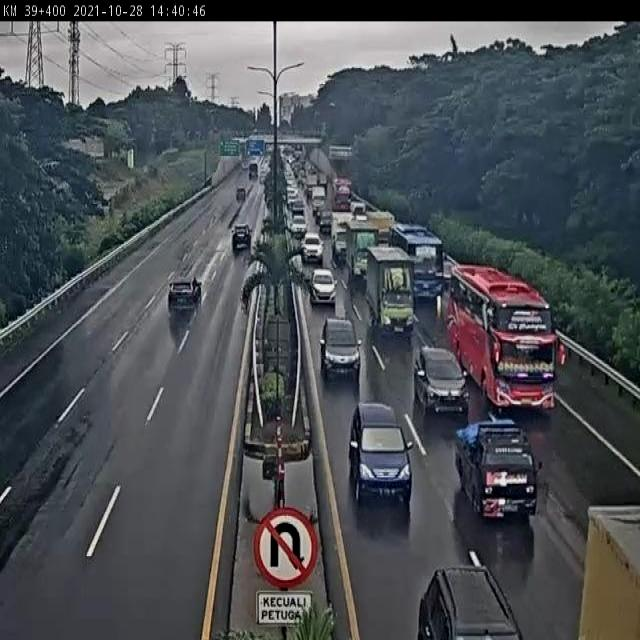Bus: (447, 264, 566, 414), (386, 222, 444, 299)
Car: (415, 564, 520, 640), (345, 401, 416, 506), (411, 342, 475, 422), (318, 316, 364, 376), (308, 267, 338, 308), (168, 275, 202, 311), (300, 231, 325, 262), (232, 223, 253, 250), (290, 215, 308, 240), (291, 201, 305, 217), (236, 187, 246, 202)
Truck: (454, 419, 544, 522), (364, 244, 414, 336), (345, 218, 381, 282), (331, 211, 356, 262), (331, 178, 353, 211)
